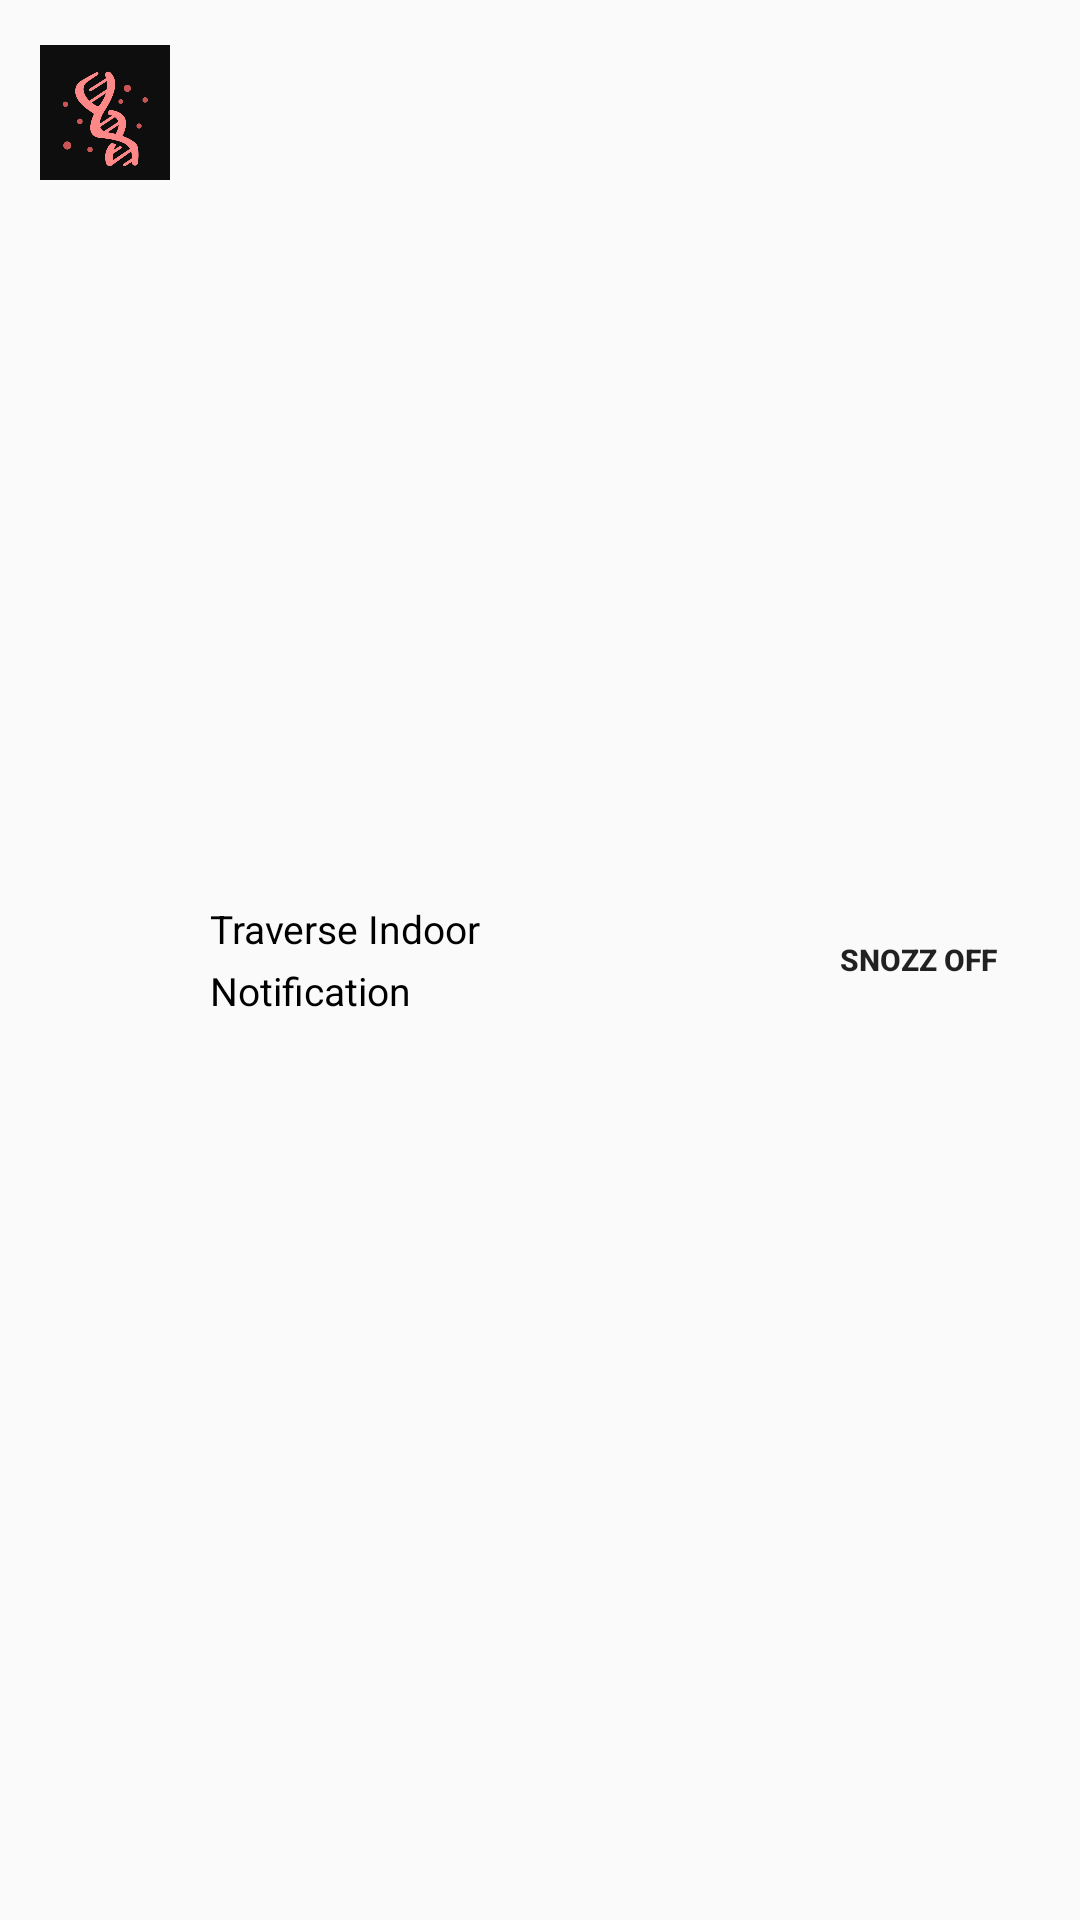

Icon click points for this 1080x1920 phone screenshot, format [x,y]:
icongene: [105,112]
